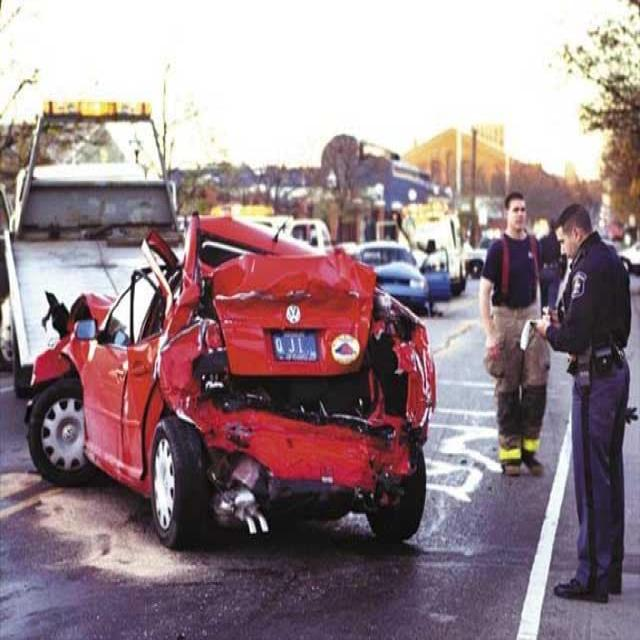crush: (31, 216, 435, 536)
